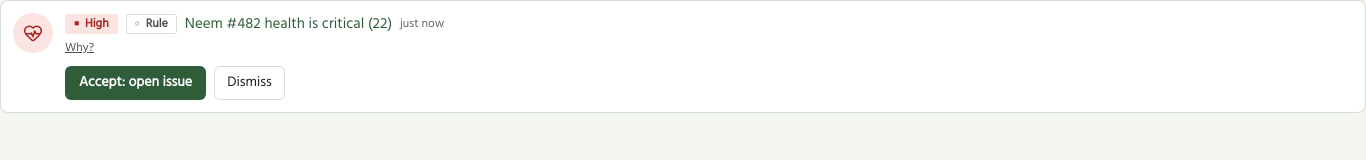
RecommendationCard › requires a reason before a dismissal can be confirmed
Step 1. Click the button "Dismiss" → (249, 83), box [214, 66, 285, 100]
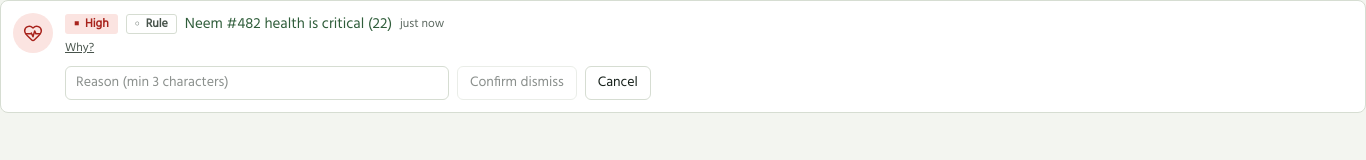
Check: the button "Confirm dismiss" is disabled, box [457, 66, 577, 100]
Step 2. Type "Tree removal booked" into the field named "Reason for dismissing" → (257, 83), box [65, 66, 449, 100]
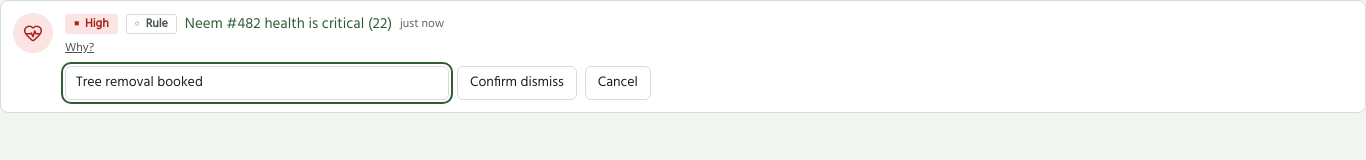
Check: the button "Confirm dismiss" is enabled, box [457, 66, 577, 100]
